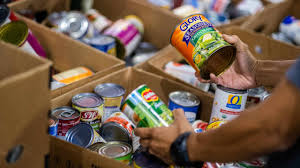can: (53, 81, 132, 156), (170, 13, 240, 84), (121, 88, 176, 132)
